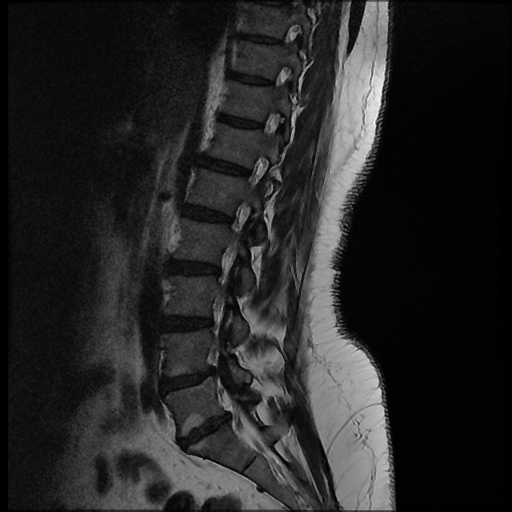RFS0: (221, 191, 259, 239)
